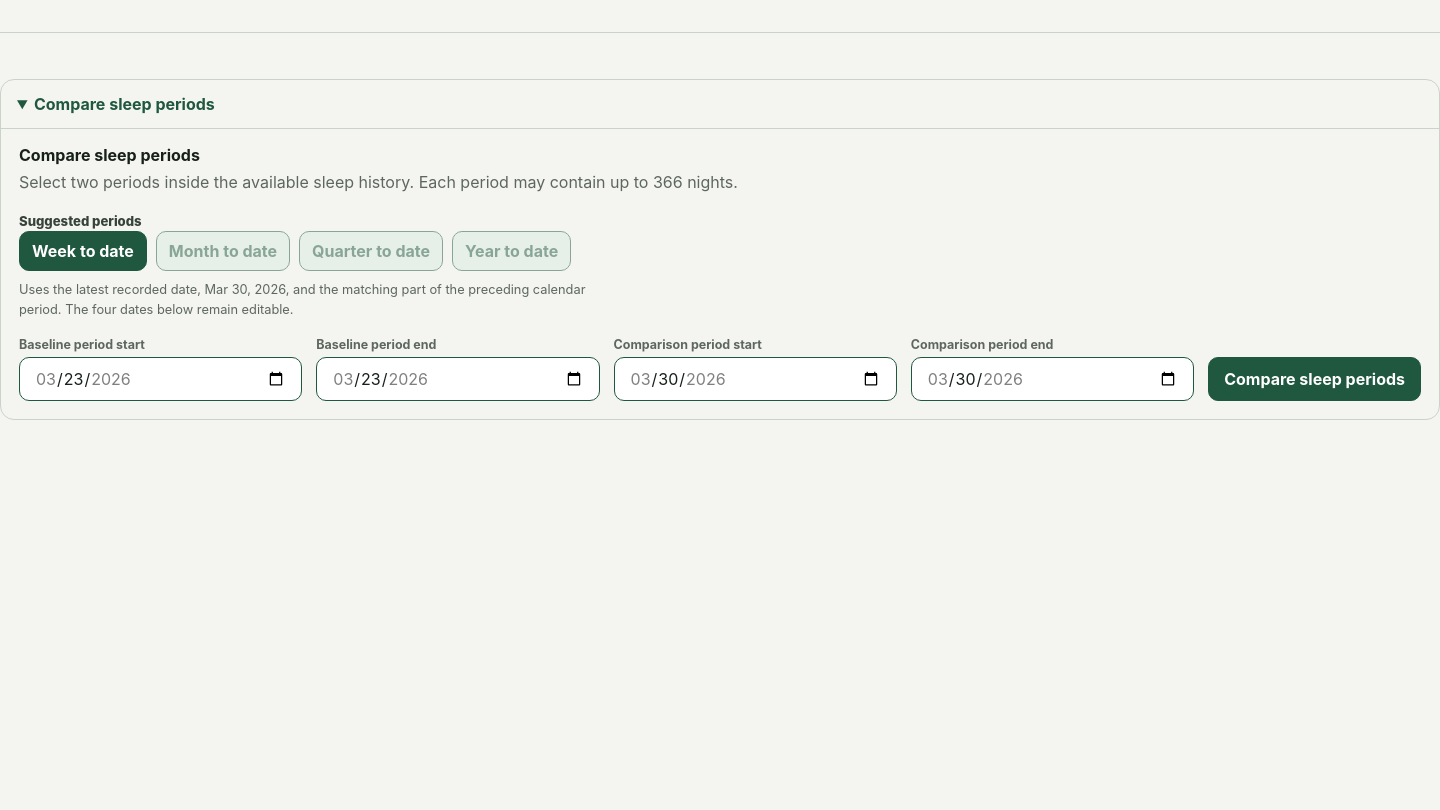
SleepComparisonPanel › keeps origins separate and gives each one a factual conclusion
Click the button "Compare sleep periods" at (1315, 380), box x1=1208 y1=358 x2=1421 y2=402
(page scrolled)
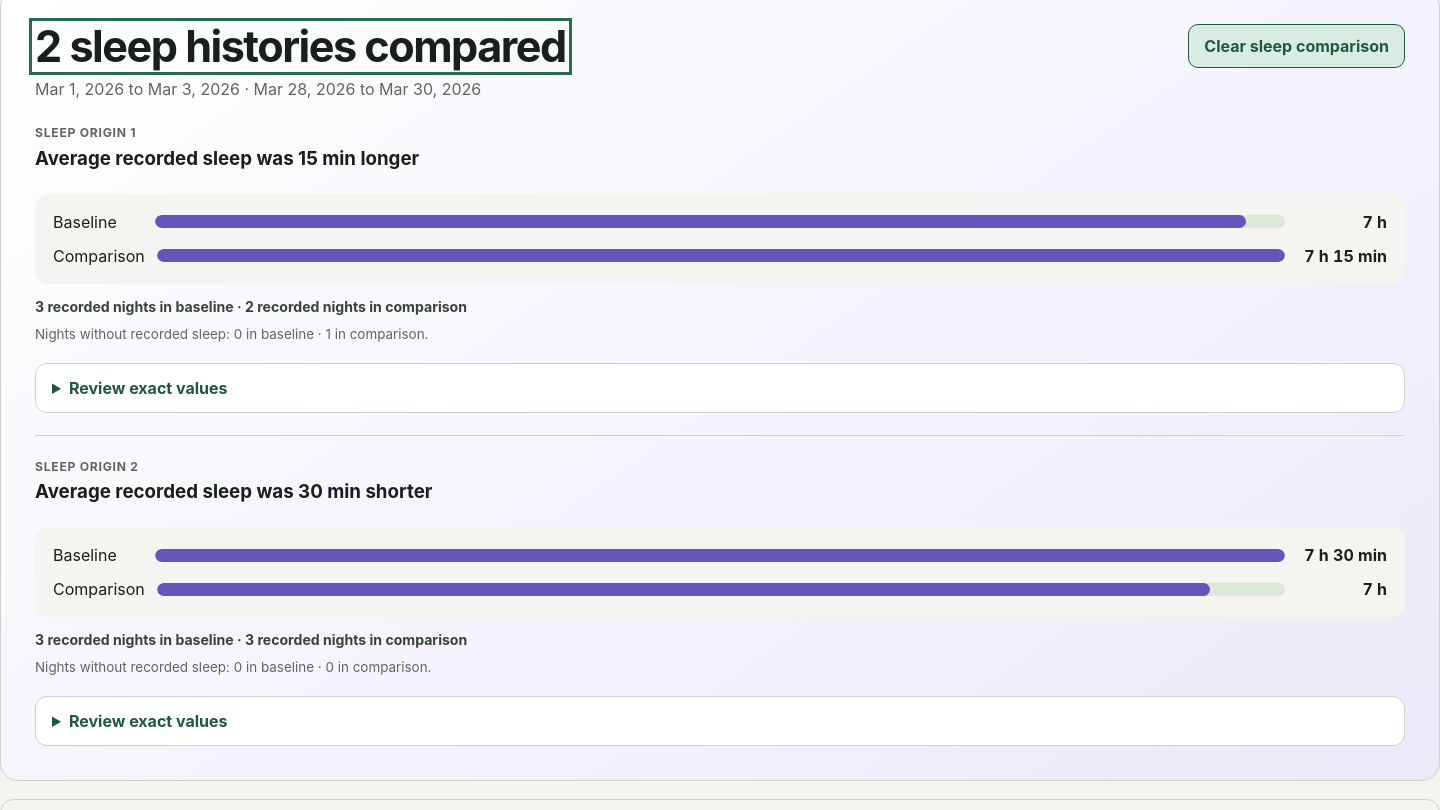
Result: the heading "2 sleep histories compared" is shown at x1=35 y1=24 x2=566 y2=69
Result: the heading "Average recorded sleep was 15 min longer" is shown at x1=35 y1=147 x2=419 y2=170
Result: the heading "Average recorded sleep was 30 min shorter" is shown at x1=35 y1=480 x2=432 y2=504
